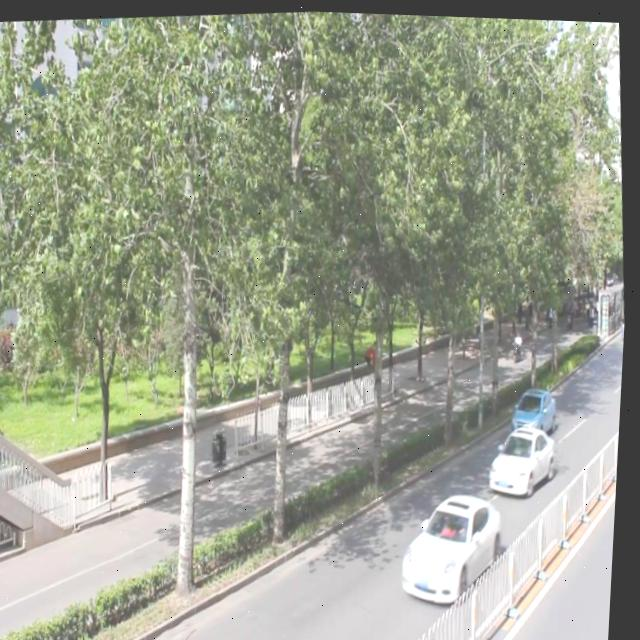car: (399, 482, 510, 602), (487, 416, 562, 495), (510, 378, 562, 436)
